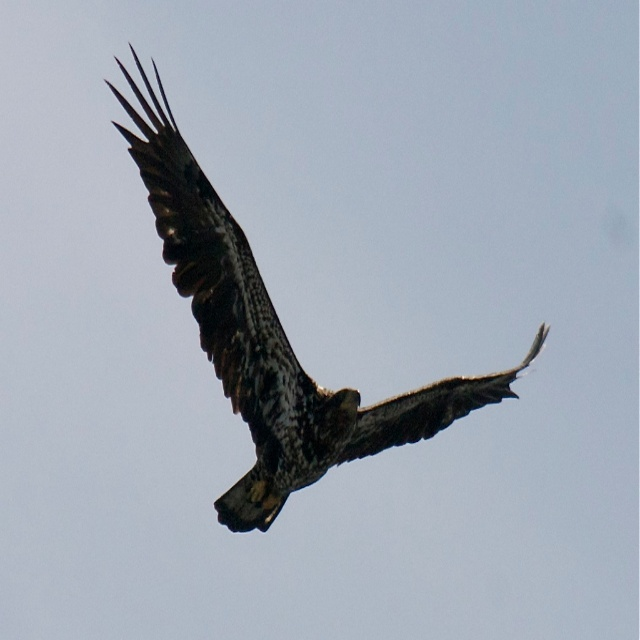Eagle: (103, 42, 552, 533)
